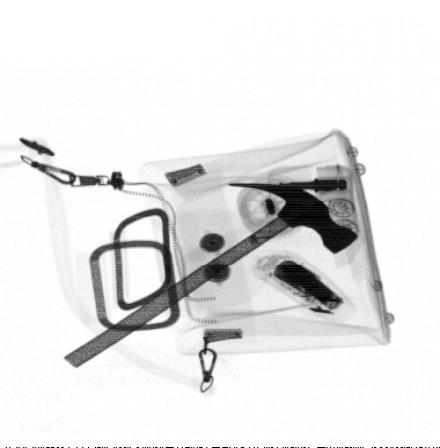Hammer: (62, 182, 358, 368)
